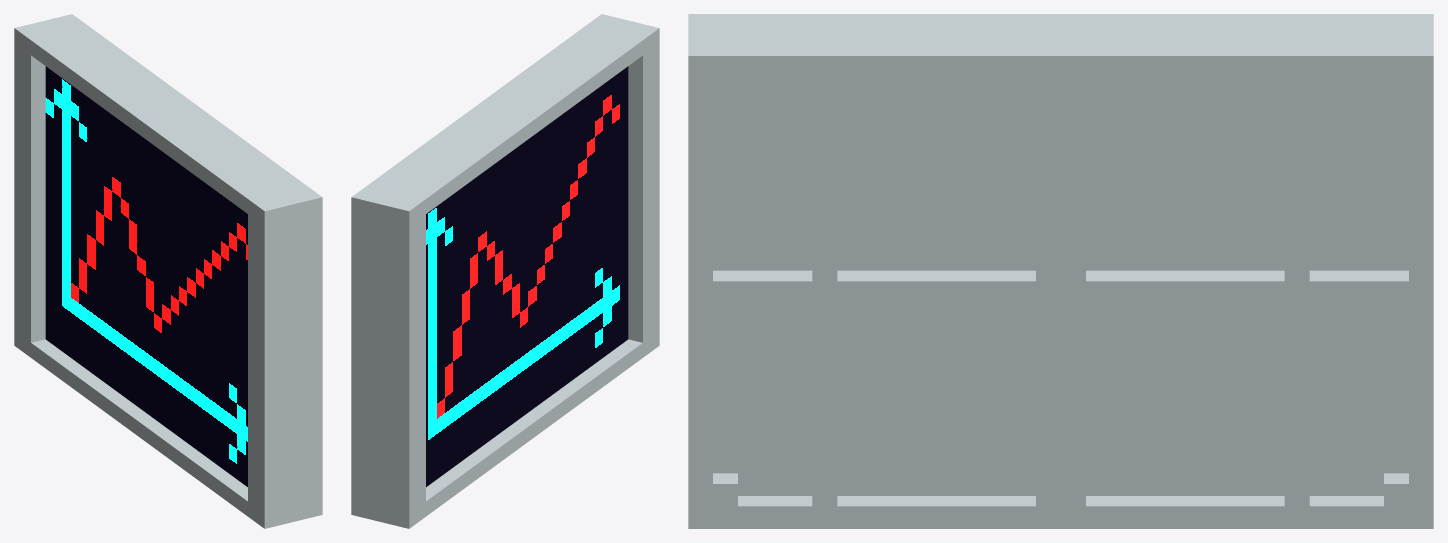
File: neon_stonks.dae
3 renders of one model, left to right at view 1: azimuth 30°, elevation 25°; view 2: azimuth 150°, elevation 25°; view 3: azimuth 270°, elevation 25°, orthographic. The views are drawn at different scales.
Parts seen in each view (by area): view 1: Content; view 2: Content; view 3: Content.
Part boxes in pixels (x1,y1,x2,y2): Content: (14,14,322,528); Content: (351,14,659,528); Content: (688,14,1433,528).
Bounding box in the file's own units: 4 × 21 × 30.
Materials: 1 (1 with a texture image).
